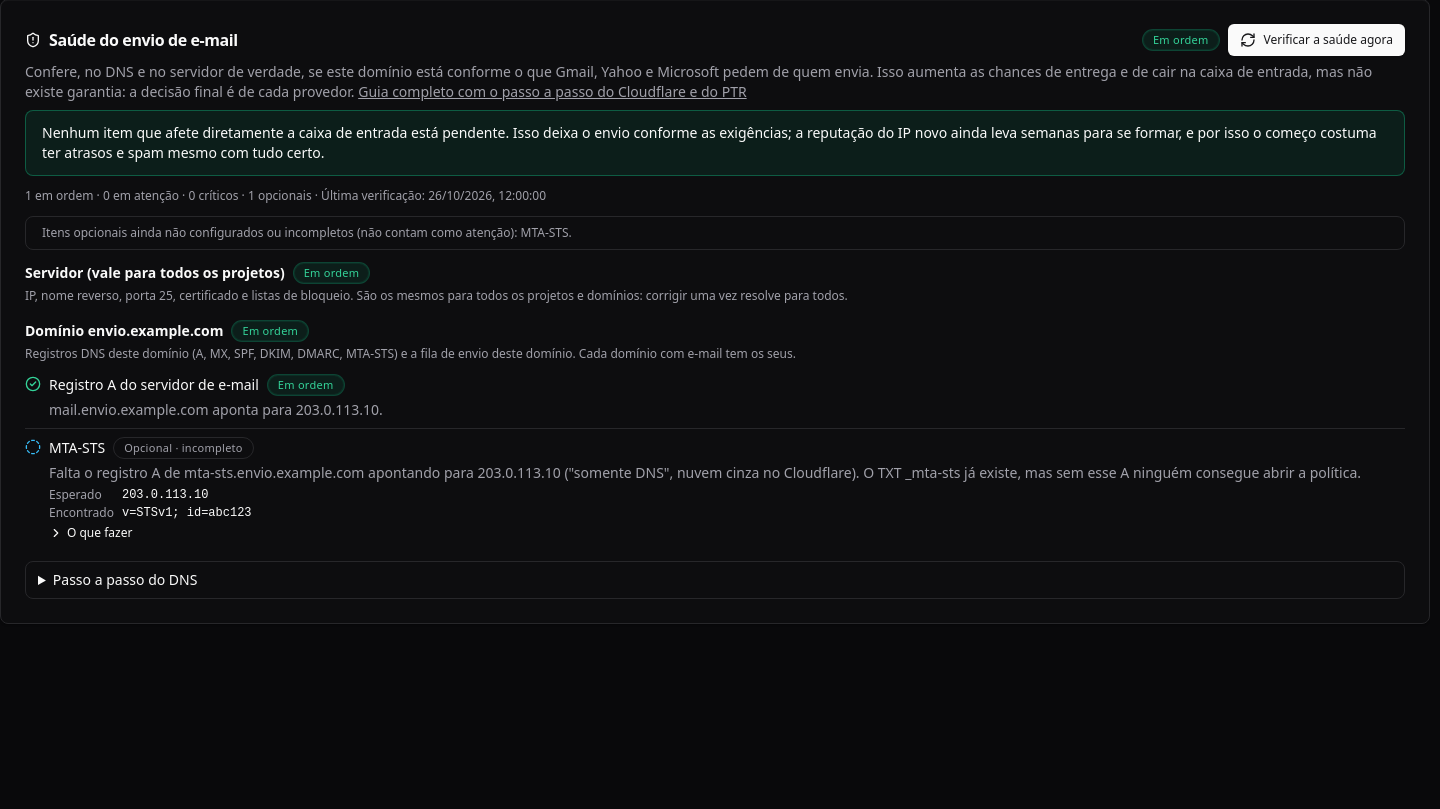
itens opcionais › o O que fazer do MTA-STS mostra SÓ o que falta: com o TXT pronto e o A faltando, só o A, com botão de copiar
Expected: the text "Opcional · incompleto" is shown, [113,437,254,459]
Click the button "O que fazer": (91, 533) [49,525,132,541]
(page scrolled)
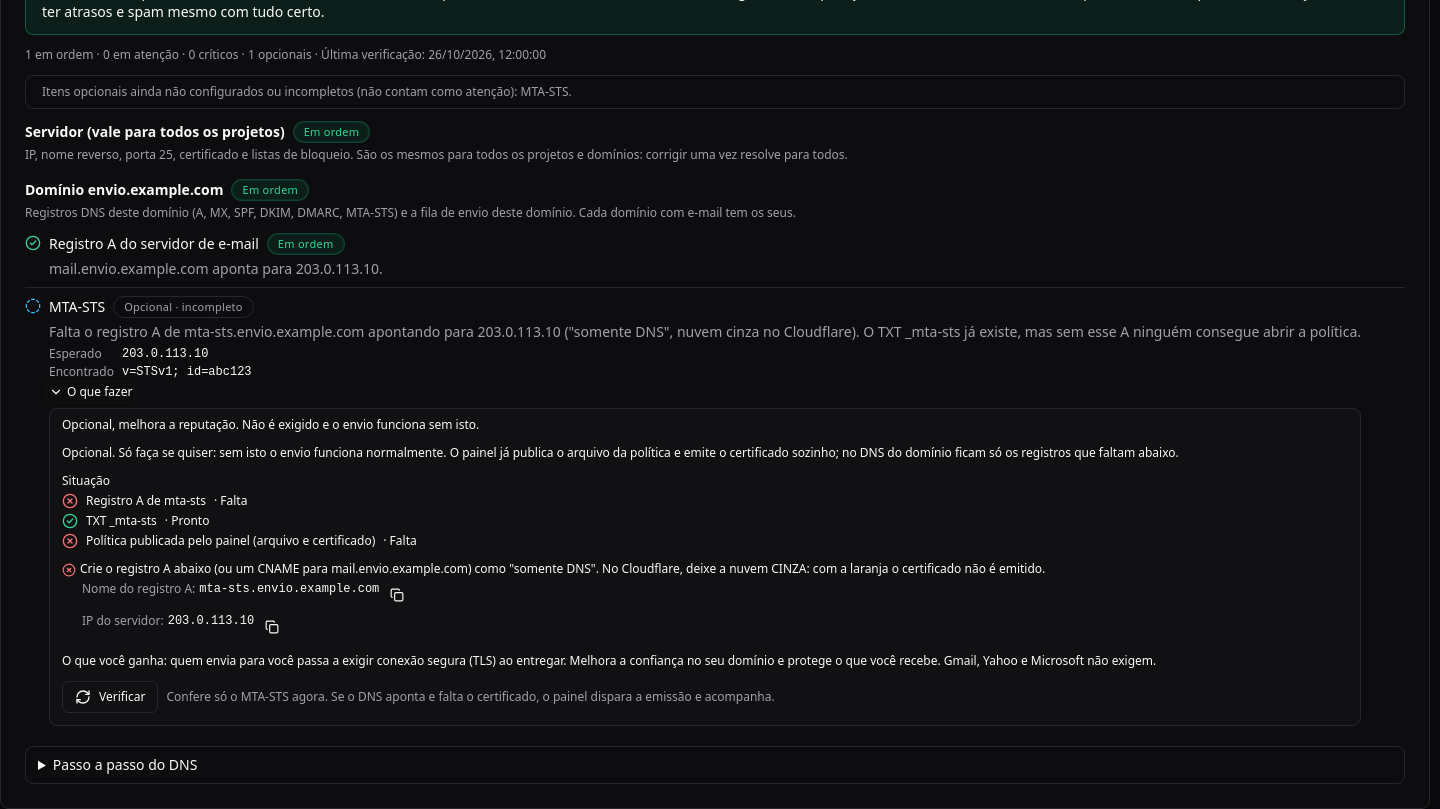
Result: the element named "Passos para: MTA-STS" shows "nuvem CINZA" at [80,560,1045,577]
Result: the 5th list item is shown at [62,559,1045,641]
Result: the list item "Registro A de mta-sts · Falta" is shown at [62,492,247,509]
